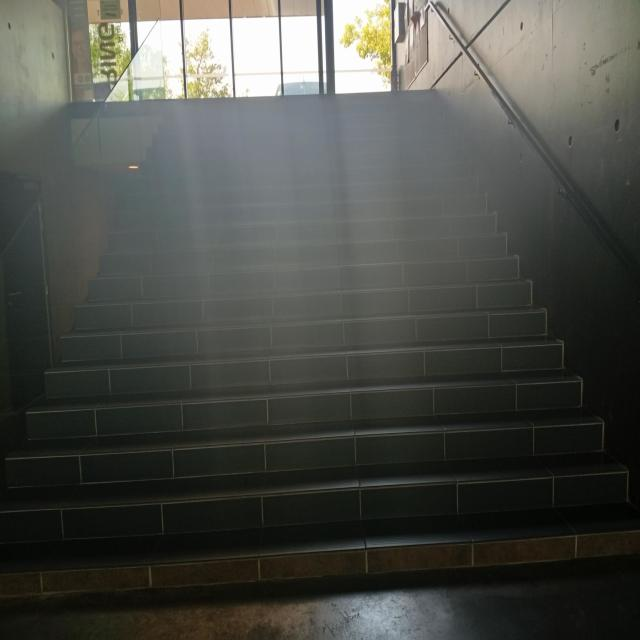Stairs: (1, 220, 547, 609)
